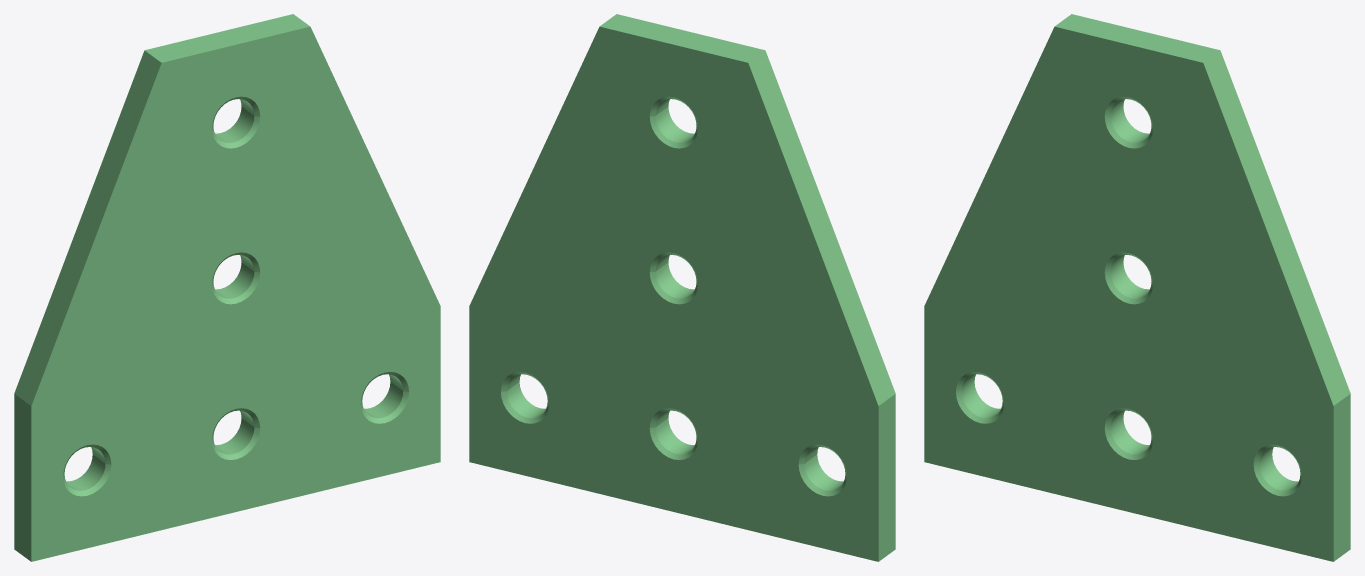
Rendered from fc-plate-t5.glb.
3 views of the same model, side by side, from view 1: azimuth 30°, elevation 25°; view 2: azimuth 150°, elevation 25°; view 3: azimuth 330°, elevation 25° (orthographic).
Parts seen in each view (by area): view 1: 0.25_0.5833333333333334_0.25_0; view 2: 0.25_0.5833333333333334_0.25_0; view 3: 0.25_0.5833333333333334_0.25_0.
Boxes of the visible parts, <box> form: 0.25_0.5833333333333334_0.25_0: <box>14,14,440,561</box>; 0.25_0.5833333333333334_0.25_0: <box>469,14,895,561</box>; 0.25_0.5833333333333334_0.25_0: <box>924,14,1350,561</box>.
Size of the model in its own units: 5.5 by 6 by 0.3999.
